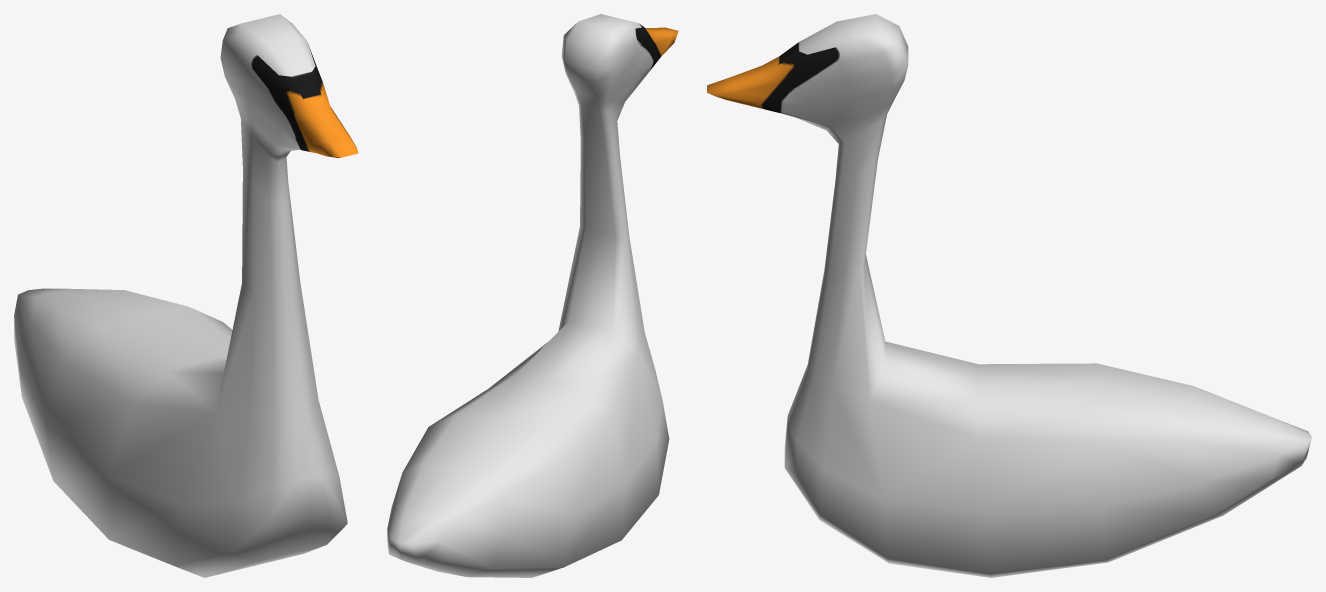
The model's file is serg.fbx.
3 renders of one model, left to right at view 1: azimuth 30°, elevation 25°; view 2: azimuth 150°, elevation 25°; view 3: azimuth 270°, elevation 25°, orthographic. The views are drawn at different scales.
Visible parts, largest first — view 1: serg; view 2: serg; view 3: serg.
Boxes of the visible parts, x1,y1,x2,y2 form: serg: (14, 14, 358, 577); serg: (387, 14, 678, 577); serg: (707, 14, 1311, 577).
Bounding box in the file's own units: 1.12 × 3.21 × 3.32.
